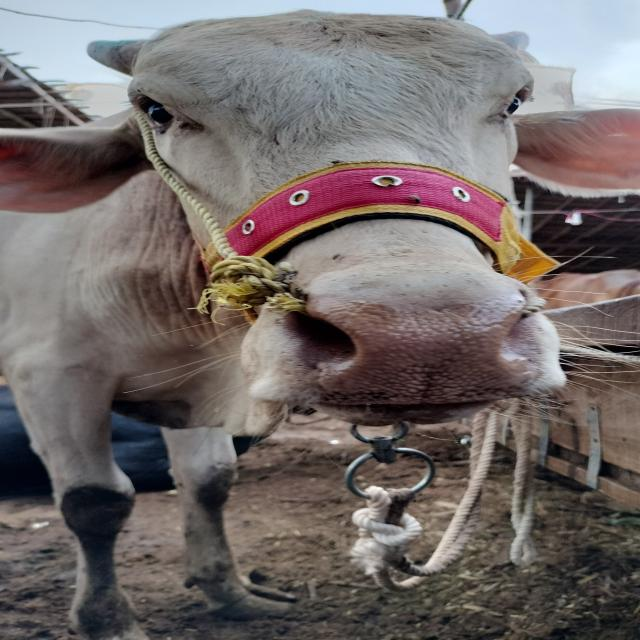muzzles: (279, 290, 556, 408)
